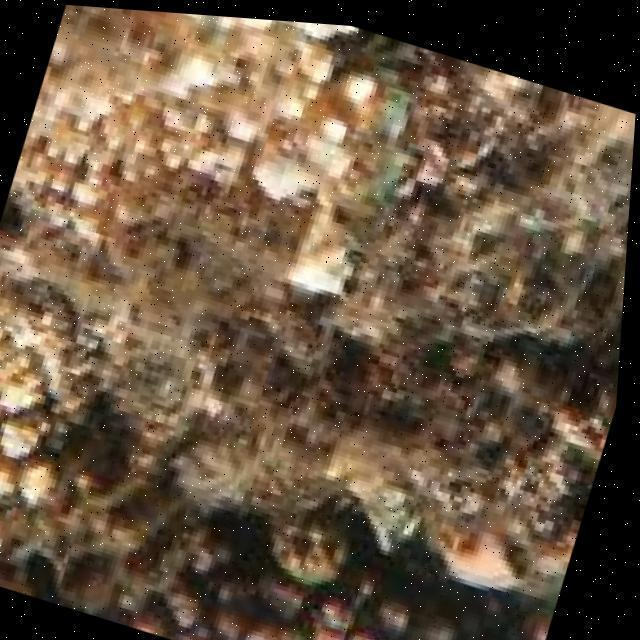Bleached Coral: (0, 0, 428, 311)
